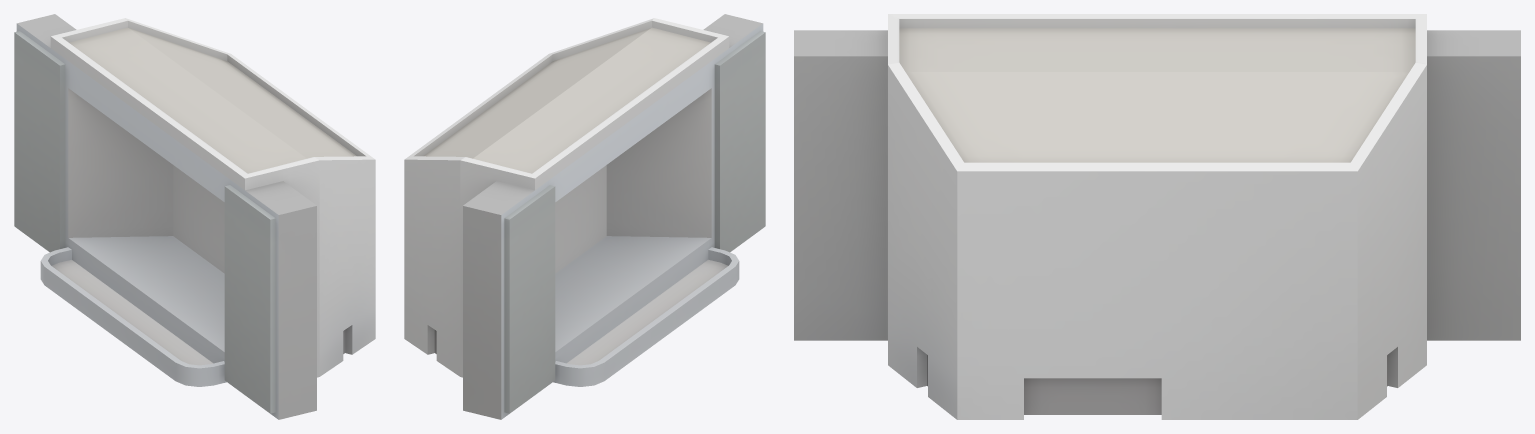
3 renders of one model, left to right at view 1: azimuth 30°, elevation 25°; view 2: azimuth 150°, elevation 25°; view 3: azimuth 270°, elevation 25°, orthographic. The views are drawn at different scales.
Visible parts, largest first — view 1: 70030076454640750; view 2: 70030076454640750; view 3: 70030076454640750.
Part boxes in pixels (left/top/right/bottom): 70030076454640750: left=14, top=14, right=375, bottom=419; 70030076454640750: left=404, top=14, right=765, bottom=419; 70030076454640750: left=794, top=14, right=1520, bottom=419.
Size of the model in its own units: 27.07 by 29.06 by 63.5.
Materials: 1 (1 with a texture image).
